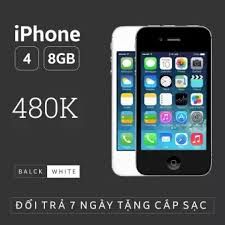iphone: (131, 23, 214, 178)
iphone4: (130, 22, 213, 177)
